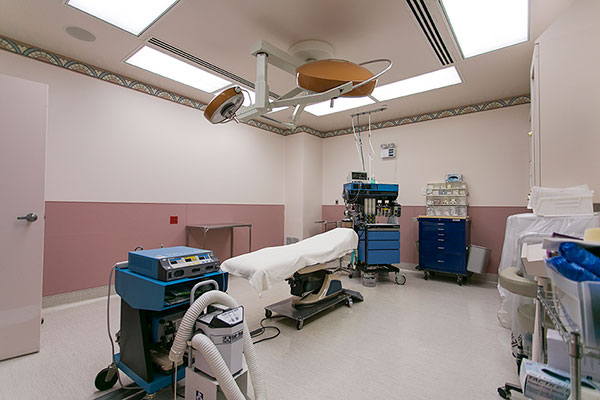cabinet: (525, 3, 600, 201)
door_handle: (17, 212, 40, 223)
electrosurgical_unit: (125, 245, 224, 282)
handle: (438, 223, 444, 226), (438, 228, 444, 231), (438, 239, 444, 242), (438, 233, 444, 236), (438, 247, 444, 250), (437, 260, 443, 263)
medical_drawer: (412, 211, 470, 287), (357, 226, 402, 269)
operating_bed: (220, 226, 362, 328)
surgical_light: (294, 54, 381, 109), (201, 76, 250, 136)
utility_cart: (182, 222, 254, 258)
waste_bin: (466, 242, 492, 276)
